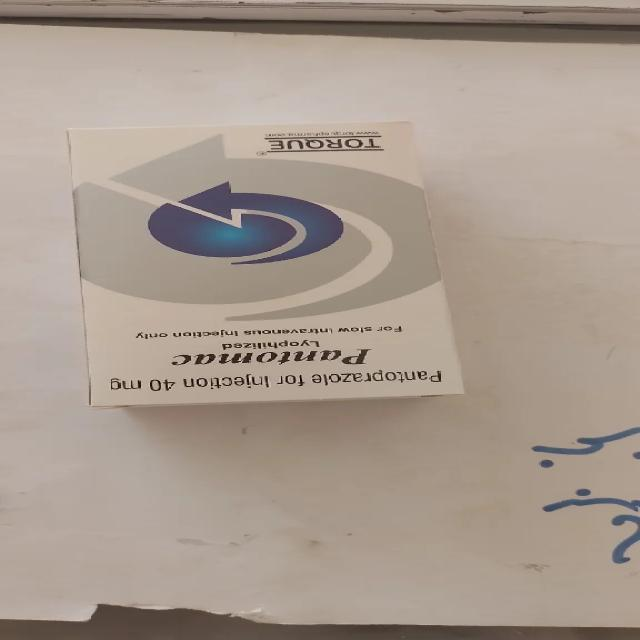drug-name: (174, 346, 374, 367)
